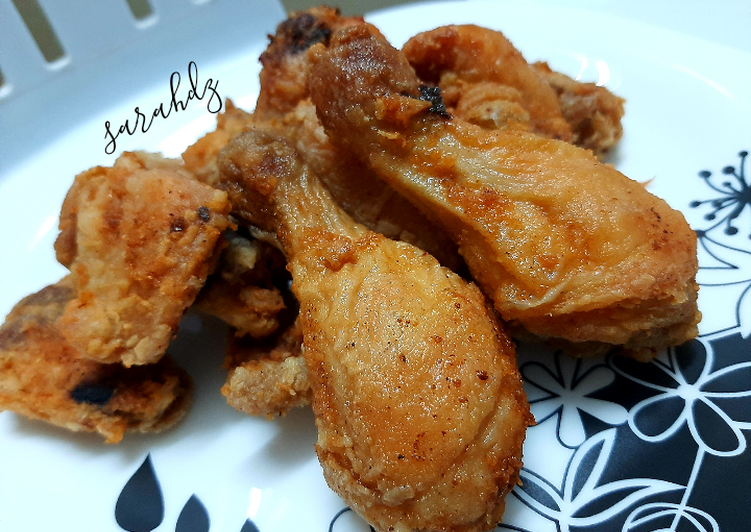Ayam: (269, 6, 709, 361), (189, 108, 520, 532)
